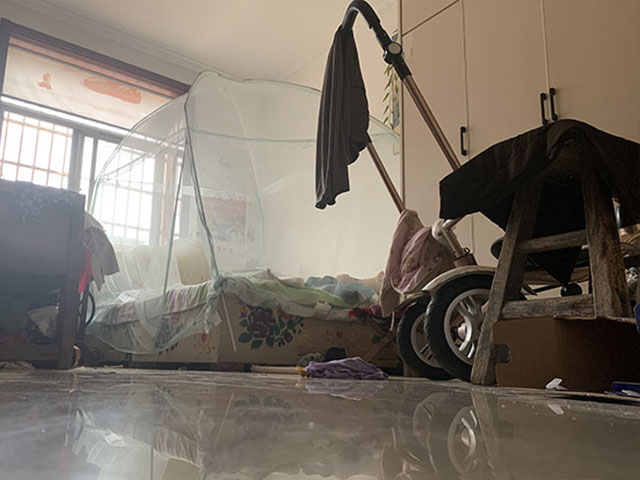bed: (85, 274, 399, 376)
stool: (471, 153, 633, 385), (355, 304, 412, 377)
table: (1, 176, 89, 371)
